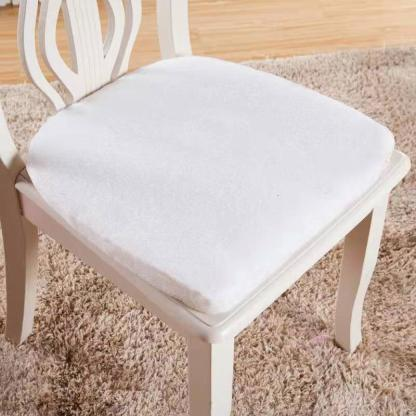chair: (0, 3, 416, 416)
